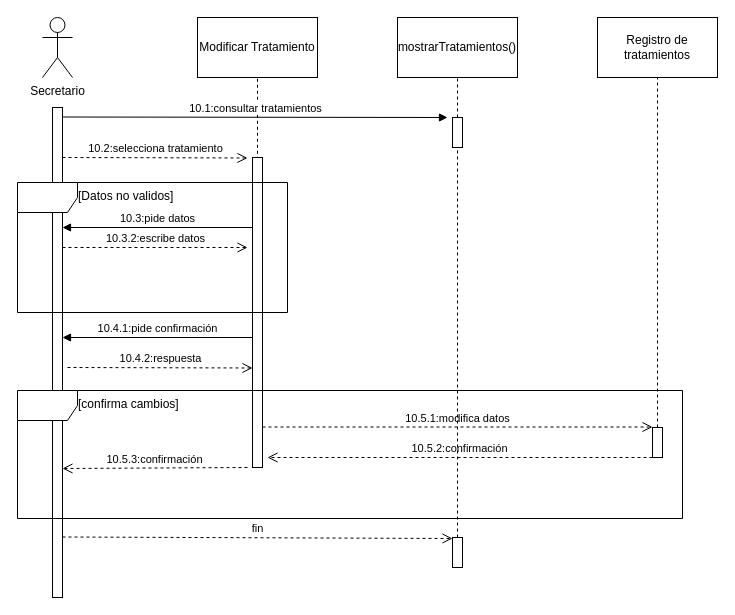
Some shapes in this 735 by 615 pixel diagram are drawn without their labels. The box of each missing label's shape, as (x1, y1, x2, y2) in pixels:
loop: (16, 182, 288, 312)
opt: (16, 390, 682, 518)
